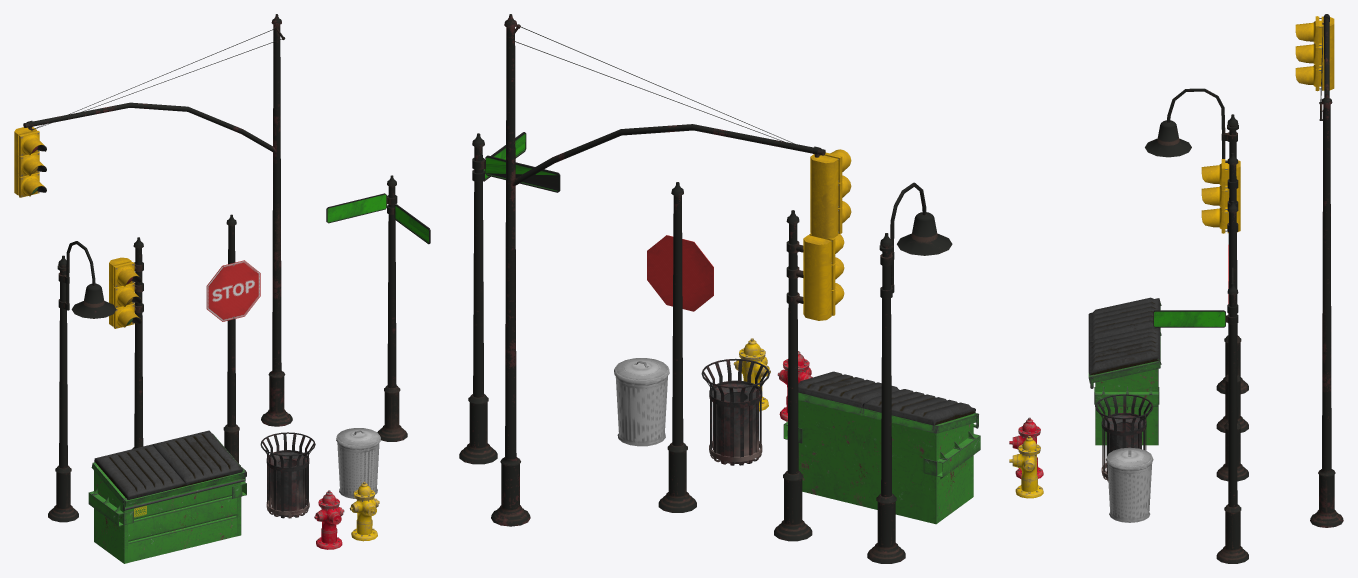
The picture shows the model from 3 angles, left to right: view 1: azimuth 30°, elevation 25°; view 2: azimuth 150°, elevation 25°; view 3: azimuth 270°, elevation 25°; orthographic projection. The views are drawn at different scales.
Parts seen in each view (by area): view 1: metal street props low poly.006, metal street props low poly, metal street props low poly.008, metal street props low poly.005, metal street props low poly.012, metal street props low poly.011, metal street props low poly.001, metal street props low poly.007, metal street props low poly.002, metal street props low poly.003; view 2: metal street props low poly.006, metal street props low poly, metal street props low poly.011, metal street props low poly.005, metal street props low poly.012, metal street props low poly.008, metal street props low poly.001, metal street props low poly.007, metal street props low poly.003; view 3: metal street props low poly.006, metal street props low poly, metal street props low poly.008, metal street props low poly.007, metal street props low poly.011, metal street props low poly.012, metal street props low poly.001, metal street props low poly.005, metal street props low poly.003, metal street props low poly.002.
Part boxes in pixels (x1,y1,x2,y2): metal street props low poly.006: (88,430,246,563); metal street props low poly: (14,14,292,426); metal street props low poly.008: (326,175,430,441); metal street props low poly.005: (206,214,260,479); metal street props low poly.012: (48,241,116,522); metal street props low poly.011: (109,237,143,448); metal street props low poly.001: (260,432,315,518); metal street props low poly.007: (336,428,380,498); metal street props low poly.002: (314,490,344,549); metal street props low poly.003: (349,481,379,541); metal street props low poly.006: (783,371,980,524); metal street props low poly: (491,14,851,526); metal street props low poly.011: (774,210,844,541); metal street props low poly.005: (647,182,713,512); metal street props low poly.012: (867,182,952,563); metal street props low poly.008: (459,132,560,464); metal street props low poly.001: (701,358,769,465); metal street props low poly.007: (614,358,669,446); metal street props low poly.003: (733,338,770,411); metal street props low poly.006: (1088,297,1161,445); metal street props low poly: (1295,14,1343,527); metal street props low poly.008: (1153,267,1248,563); metal street props low poly.007: (1106,447,1153,522); metal street props low poly.011: (1201,153,1248,432); metal street props low poly.012: (1145,88,1248,393); metal street props low poly.001: (1095,394,1153,481); metal street props low poly.005: (1216,201,1248,481); metal street props low poly.003: (1009,436,1043,498); metal street props low poly.002: (1009,417,1043,478).
Size of the model in its own units: 5.18 by 5.55 by 3.94.
Materials: 1 (1 with a texture image).
